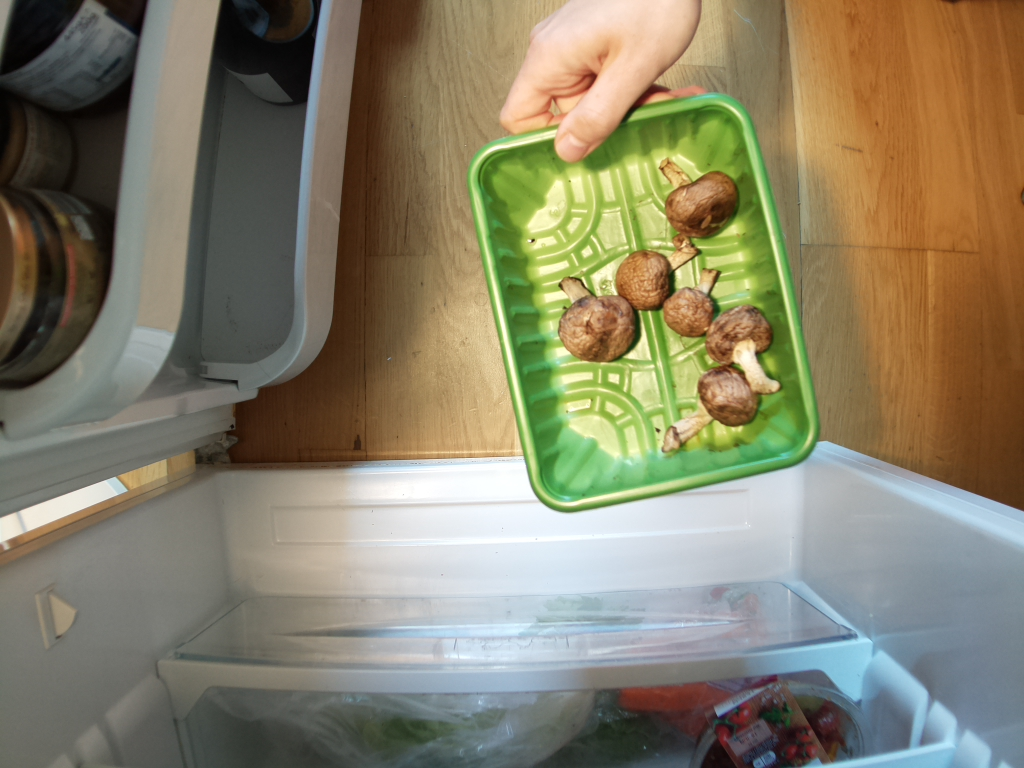mushrooms-bad: (469, 90, 820, 509)
